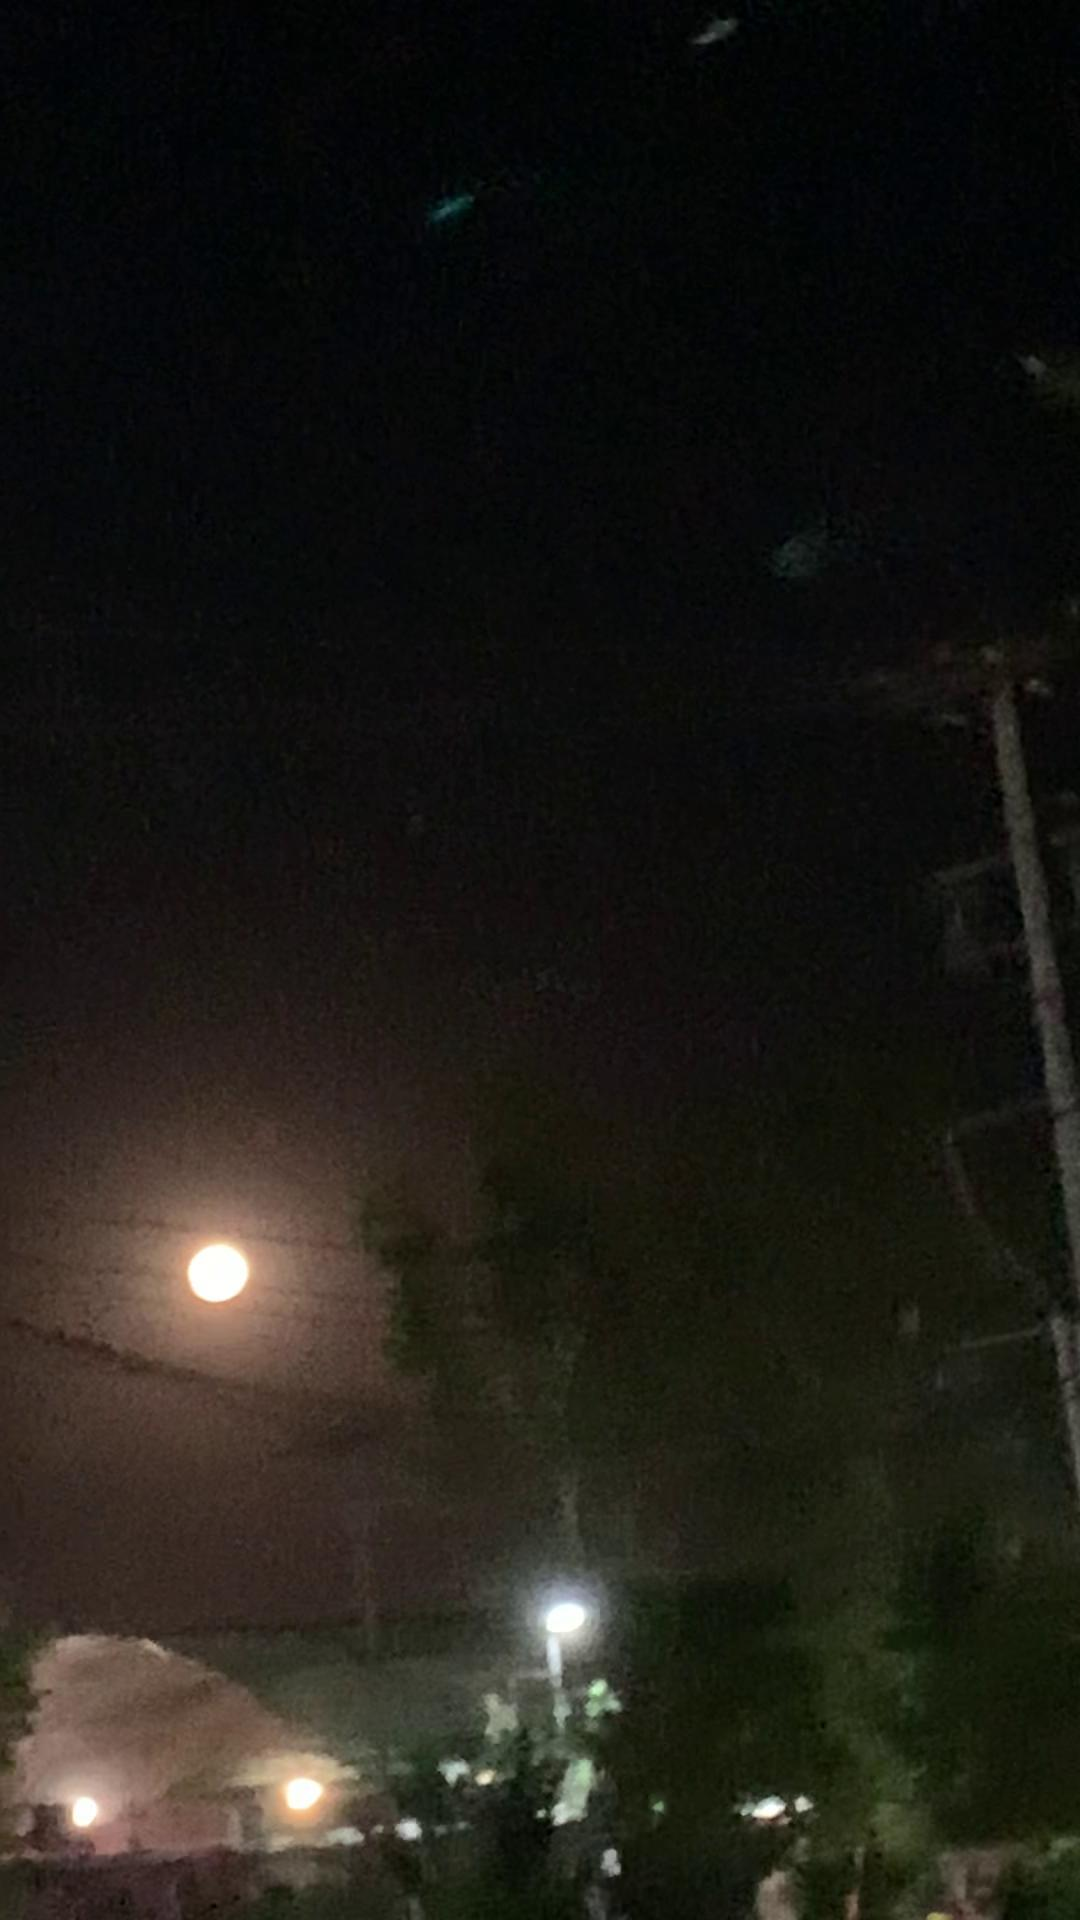moon: (170, 1212, 268, 1294)
